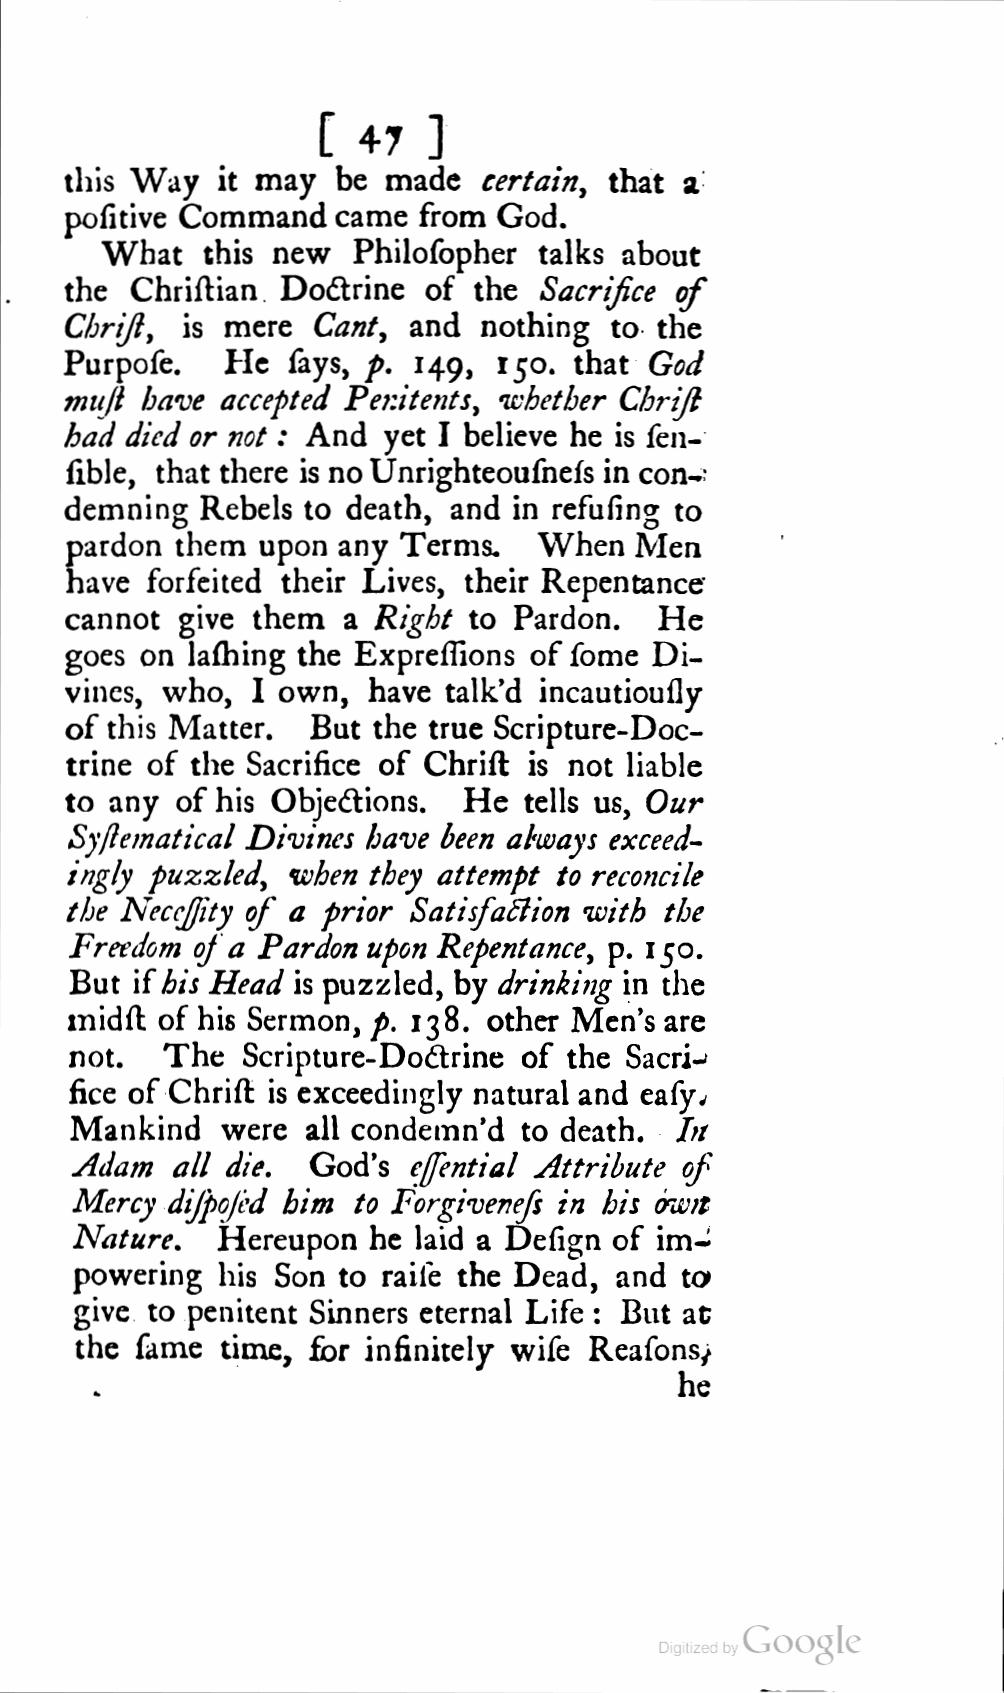bottom_p: (60, 162, 714, 239)
catchword: (677, 1369, 714, 1399)
page_num: (316, 105, 447, 162)
top_p: (60, 239, 716, 1370)
